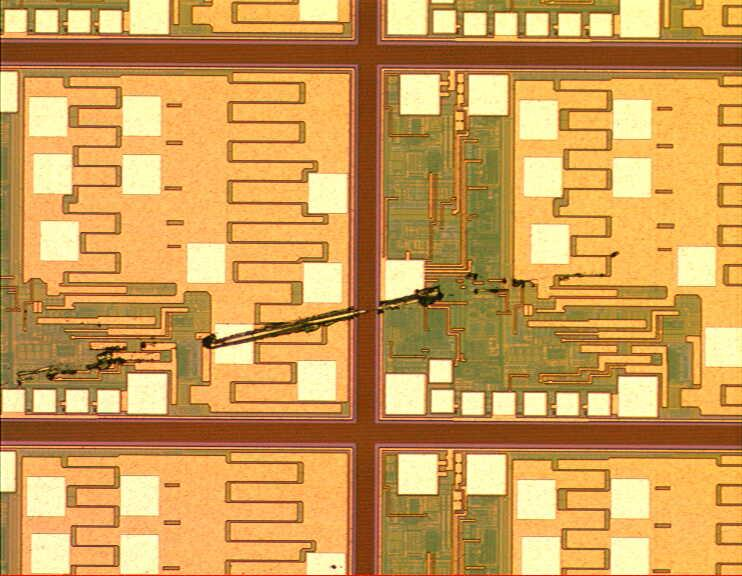SCRATCH: (9, 241, 649, 405)
